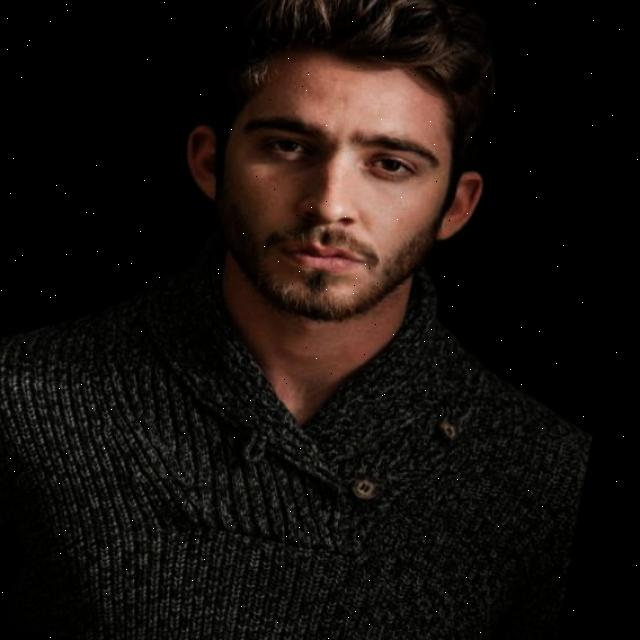puffy_eyes: (249, 151, 307, 169), (363, 170, 415, 188)
